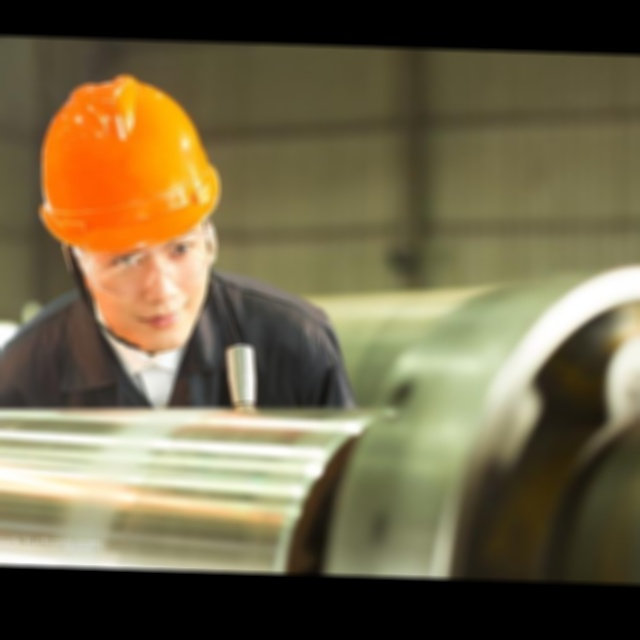Con_Casco: (38, 75, 223, 352)
